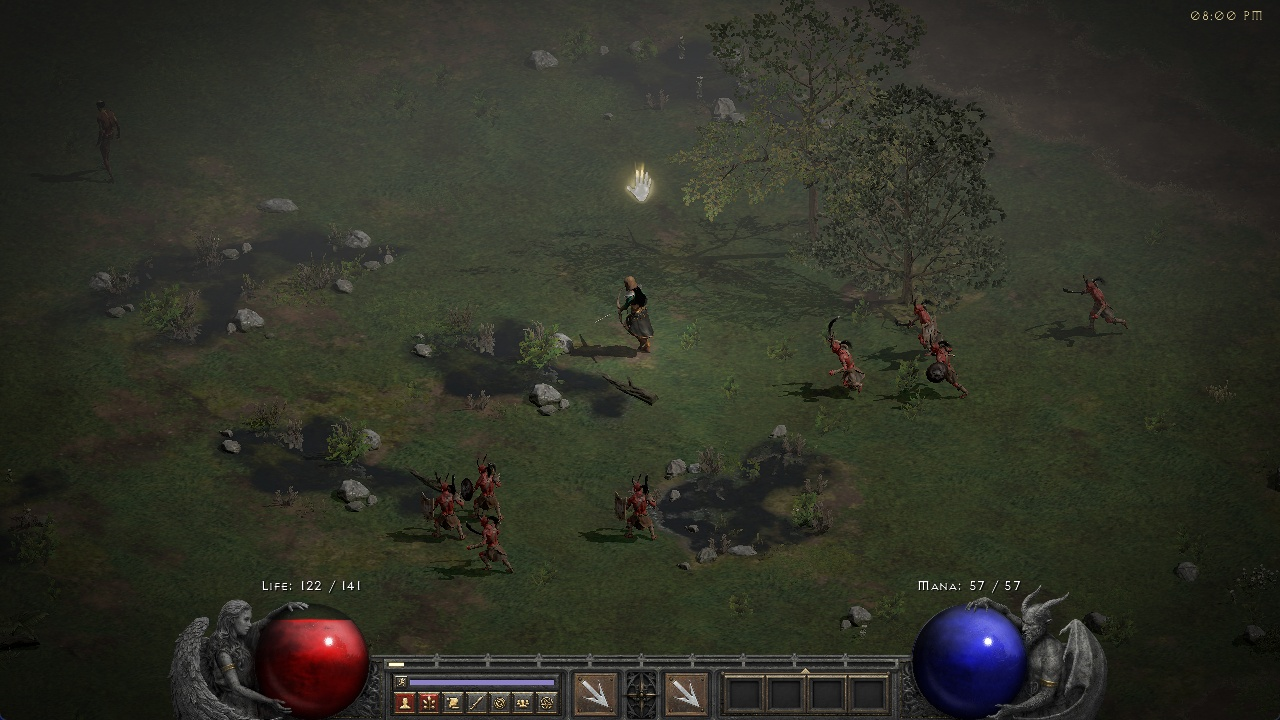fallen: (1064, 274, 1129, 336), (612, 472, 662, 546), (419, 468, 470, 540), (820, 316, 864, 391), (469, 515, 517, 576), (923, 343, 972, 399), (471, 452, 505, 512), (901, 291, 943, 335)
